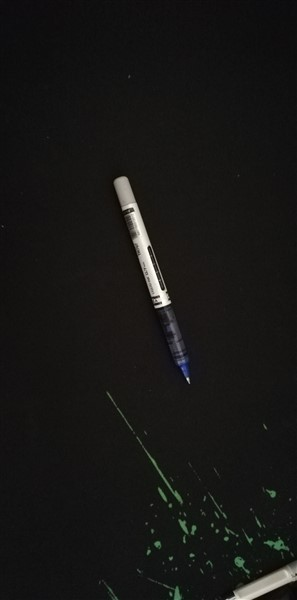pilot kalem: (104, 172, 197, 393)
